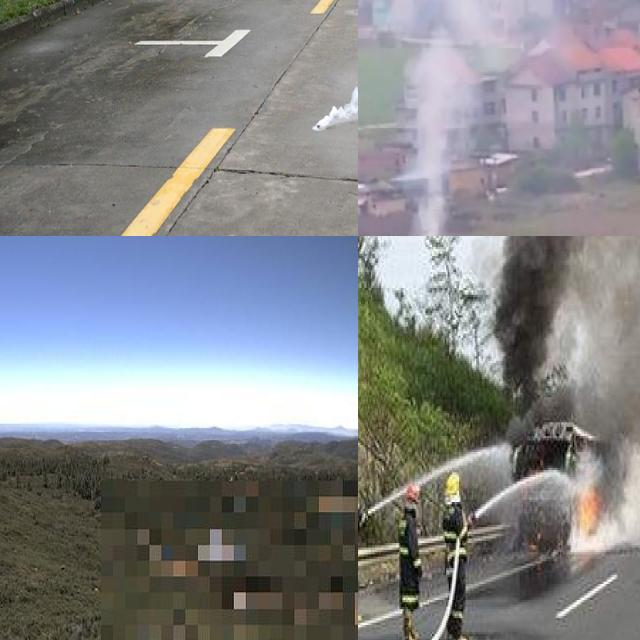fire: (567, 477, 607, 538)
smoke: (496, 236, 640, 468), (388, 0, 500, 236), (312, 0, 358, 132)
